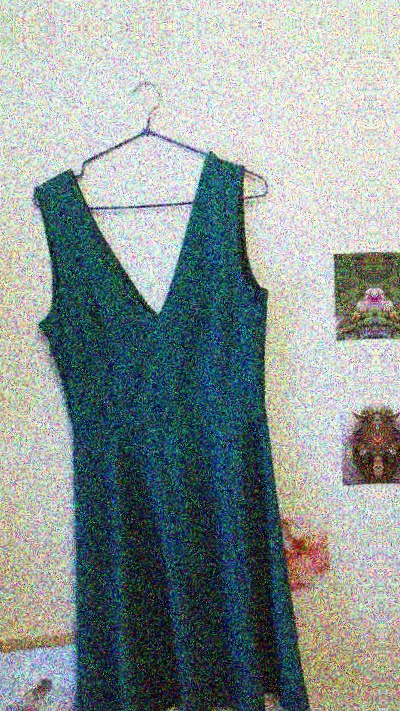Dress: (4, 120, 318, 711)
